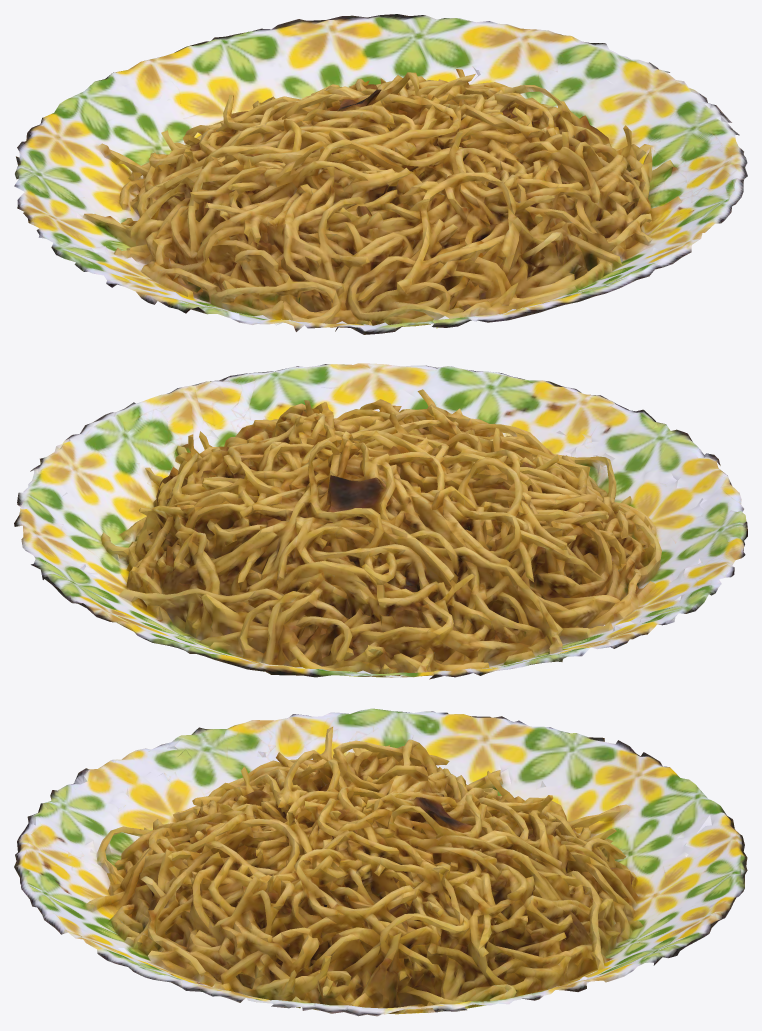
File: Bruschetta.glb
3 views of the same model, one above another, from view 1: azimuth 30°, elevation 25°; view 2: azimuth 150°, elevation 25°; view 3: azimuth 270°, elevation 25° (orthographic).
Visible parts, largest first — view 1: Object_2; view 2: Object_2; view 3: Object_2.
Part boxes in pixels (x1=…): Object_2: x1=14, y1=14, x2=747, y2=334; Object_2: x1=14, y1=363, x2=747, y2=679; Object_2: x1=14, y1=708, x2=747, y2=1016.
Bounding box in the file's own units: 5.05 × 1.02 × 4.99.
Materials: 1 (1 with a texture image).
